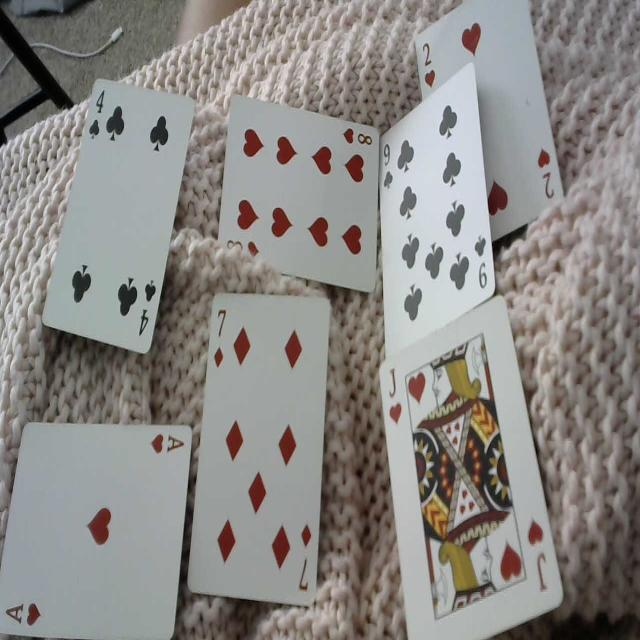2H: (420, 36, 438, 94), (536, 144, 554, 202)
4C: (137, 276, 157, 342), (87, 85, 106, 142)
7D: (296, 519, 314, 598), (212, 302, 230, 372)
8H: (341, 124, 375, 152)
9C: (472, 232, 489, 291), (380, 137, 394, 193)
AH: (4, 596, 42, 636), (148, 430, 186, 459)
JH: (524, 514, 552, 600), (385, 362, 403, 429)
